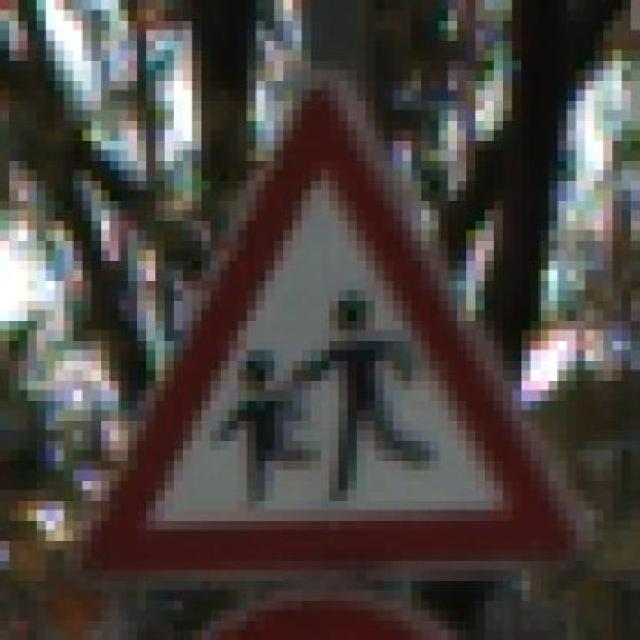Beware of children: (63, 70, 594, 590)
